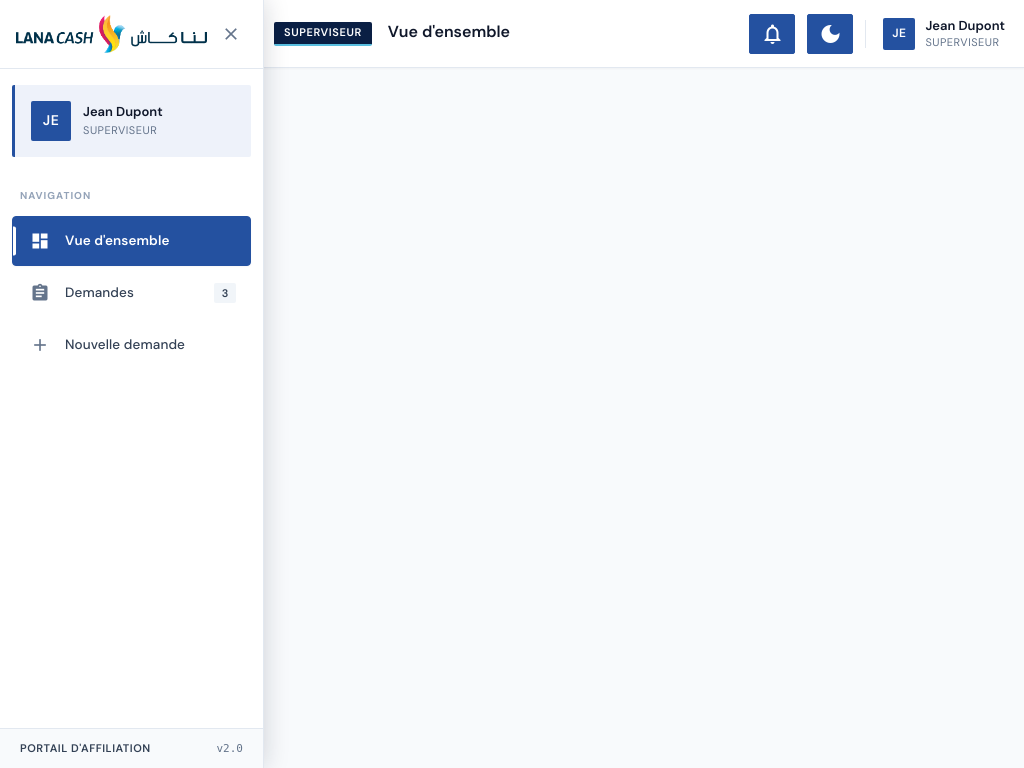
Test: WorkspaceDashboard - notifications › affiche un etat vide si aucune notification n'est presente
Click the button named "Notifications" at {"x": 772, "y": 34}, box [749, 14, 795, 54]
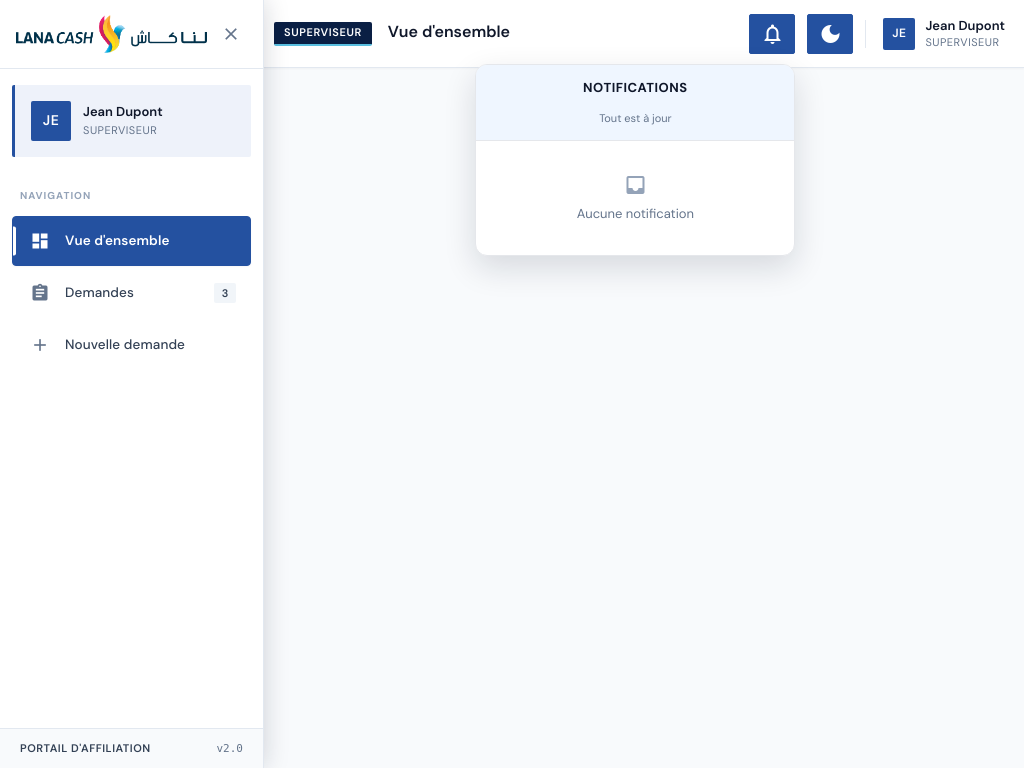
Now the text "Aucune notification" is shown, box [577, 205, 694, 223]
